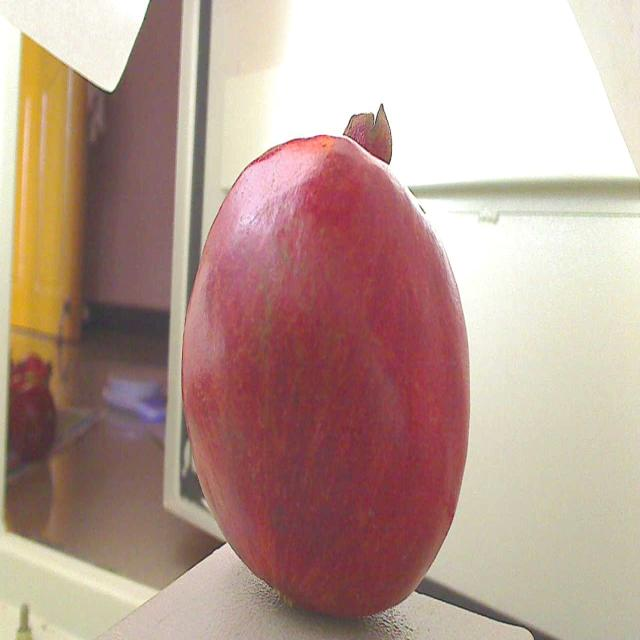pomegranate: (156, 80, 505, 640)
